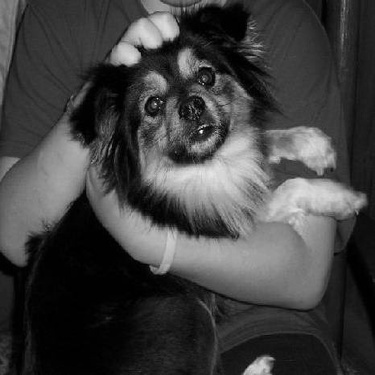dog: (3, 1, 369, 372)
